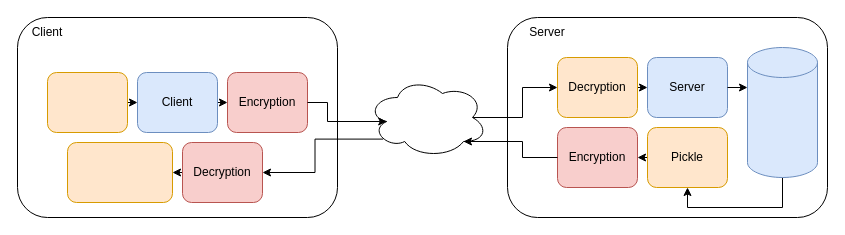
Some shapes in this 845 by 235 pixel diagram are drawn without their labels. Here are the shapes that lost their labels. From the top down, the centre of each, then its label:
point (87, 102): GUI
point (427, 117): Network
point (782, 112): Get Screentime History and limit
point (119, 172): Show screentime window and data
